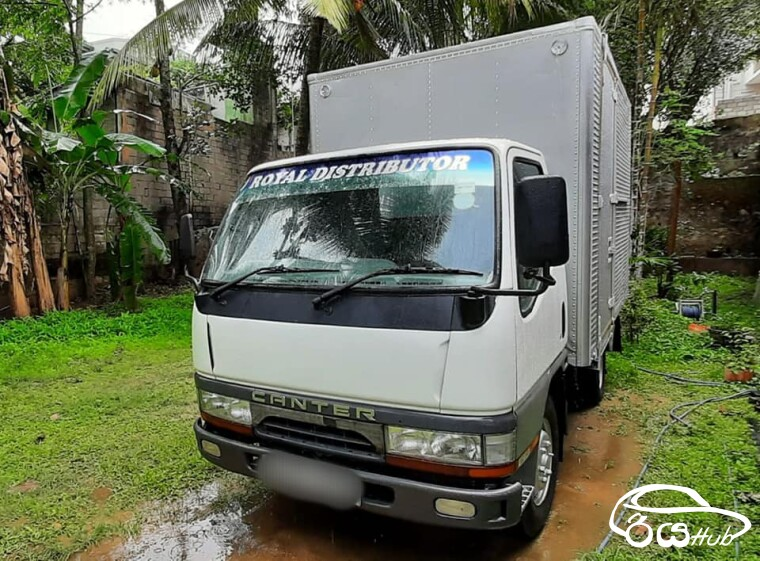truck: (178, 15, 633, 534)
